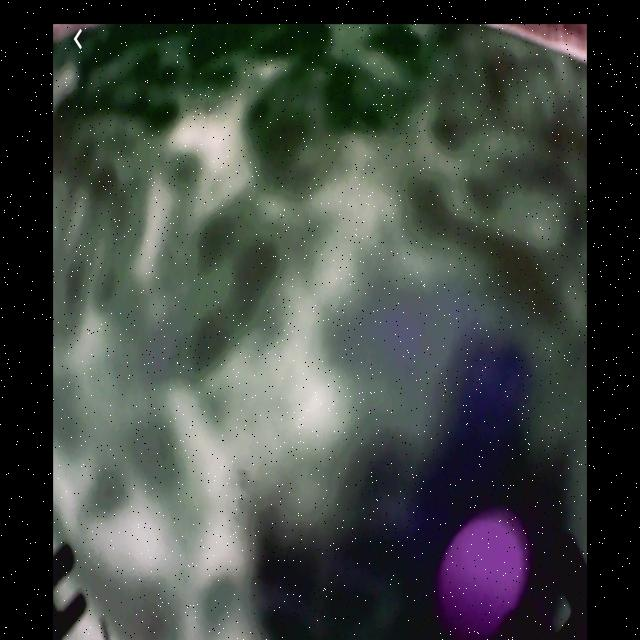ball: (438, 508, 529, 636)
